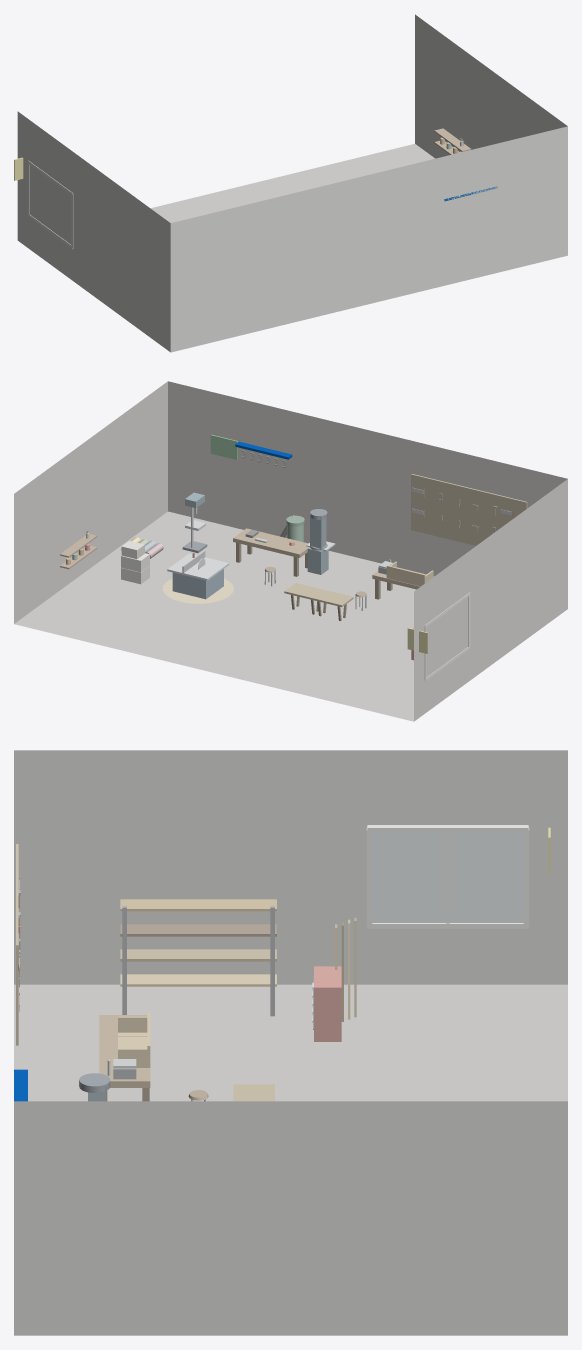
The picture shows the model from 3 angles, top to bottom: view 1: azimuth 30°, elevation 25°; view 2: azimuth 150°, elevation 25°; view 3: azimuth 270°, elevation 25°; orthographic projection. The views are drawn at different scales.
Visible parts, largest first — view 1: object 3, object 4, object 5, object 1; view 2: object 1, object 3, object 4, object 5, object 13, table_saw (×2), workbench_2, band_saw (×2), object 132, object 2, object 175, sofa_frame; view 3: object 5, object 4, object 1, window (×3), lumber_rack (×4), tool_chest, workbench, object 132.
Boxes of the visible parts, left/top/right/bottom form: object 3: left=170, top=126, right=567, bottom=352; object 4: left=17, top=111, right=170, bottom=352; object 5: left=415, top=14, right=567, bottom=158; object 1: left=151, top=144, right=434, bottom=222; object 1: left=14, top=511, right=416, bottom=721; object 3: left=168, top=381, right=567, bottom=576; object 4: left=414, top=479, right=567, bottom=721; object 5: left=14, top=381, right=167, bottom=623; object 13: left=411, top=474, right=527, bottom=545; table_saw (×2): left=167, top=553, right=229, bottom=599; workbench_2: left=233, top=528, right=309, bottom=557; band_saw (×2): left=307, top=514, right=328, bottom=574; object 132: left=284, top=583, right=353, bottom=606; object 2: left=162, top=578, right=233, bottom=603; object 175: left=210, top=434, right=237, bottom=459; sofa_frame: left=386, top=565, right=425, bottom=584; object 5: left=14, top=1101, right=567, bottom=1335; object 4: left=14, top=750, right=567, bottom=984; object 1: left=14, top=984, right=567, bottom=1101; window (×3): left=367, top=825, right=528, bottom=928; lumber_rack (×4): left=120, top=899, right=276, bottom=986; tool_chest: left=314, top=966, right=341, bottom=1041; workbench: left=99, top=1015, right=150, bottom=1087; object 132: left=233, top=1084, right=274, bottom=1101.
Size of what is drawn, in the model's own units: 18.39 by 5.62 by 12.
